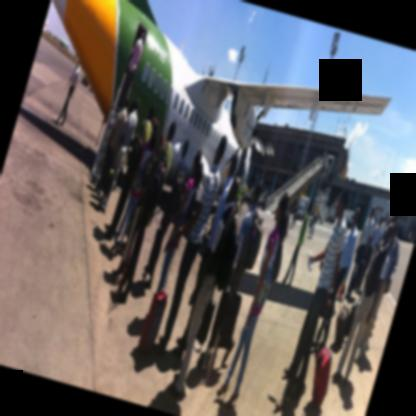backpack: (140, 154, 168, 224), (216, 219, 239, 296), (122, 131, 146, 193), (171, 189, 198, 238), (244, 214, 264, 272), (166, 170, 185, 215)
handbag: (195, 296, 216, 346), (270, 220, 283, 284), (386, 237, 398, 286), (344, 301, 359, 337), (143, 150, 155, 188), (102, 161, 114, 197), (386, 264, 398, 294)
suitcase: (138, 245, 176, 357), (207, 292, 243, 351), (311, 322, 332, 411), (193, 297, 216, 353), (333, 291, 348, 353)
